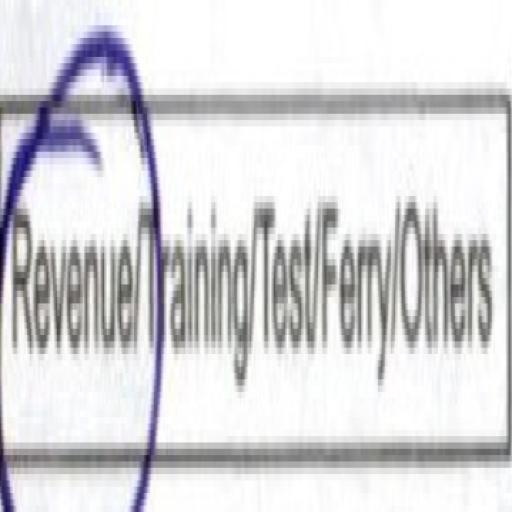check: (1, 9, 144, 512)
